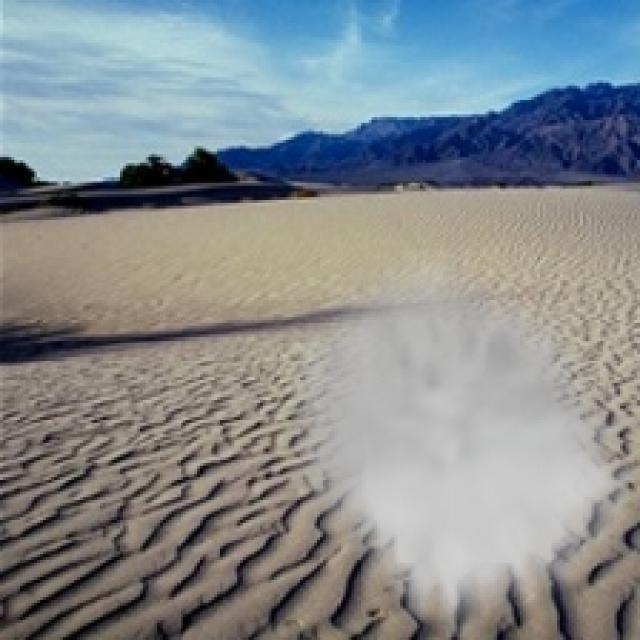Smoke: (286, 248, 628, 638)
